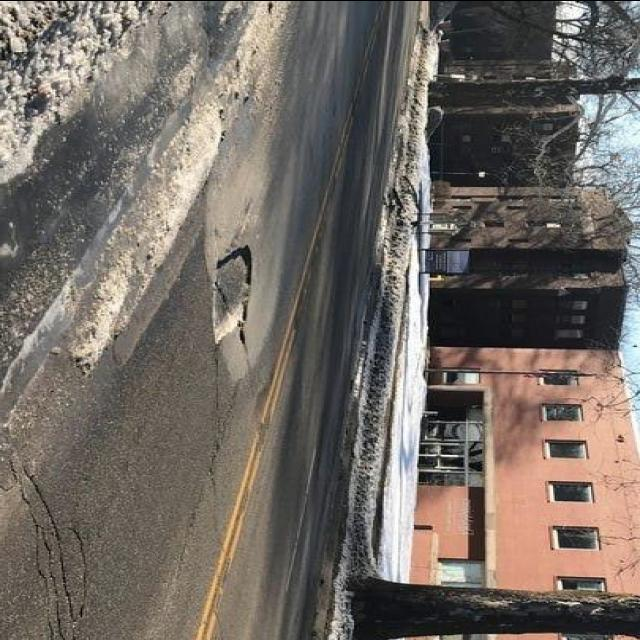jalan retak: (3, 455, 92, 639)
lubang: (206, 242, 262, 348)
